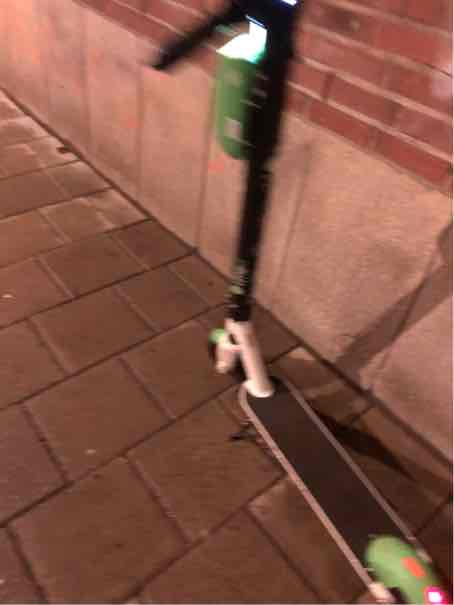scooter: (131, 18, 450, 605)
